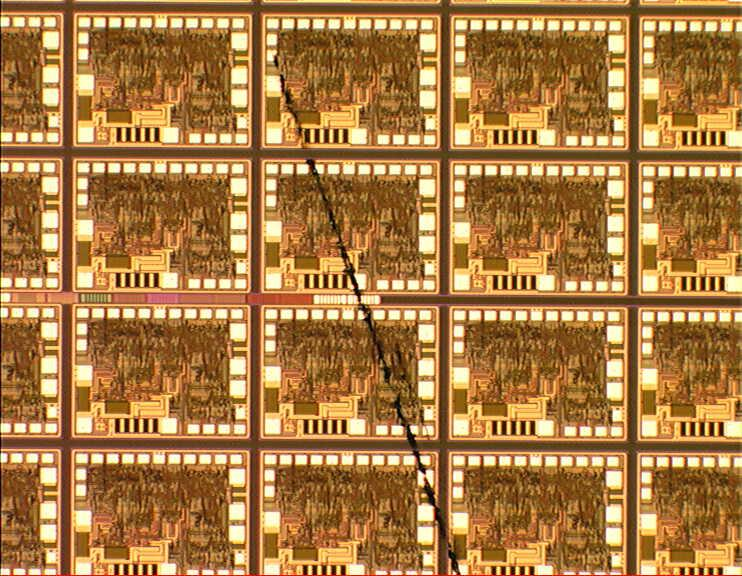SCRATCH: (265, 42, 467, 576)
